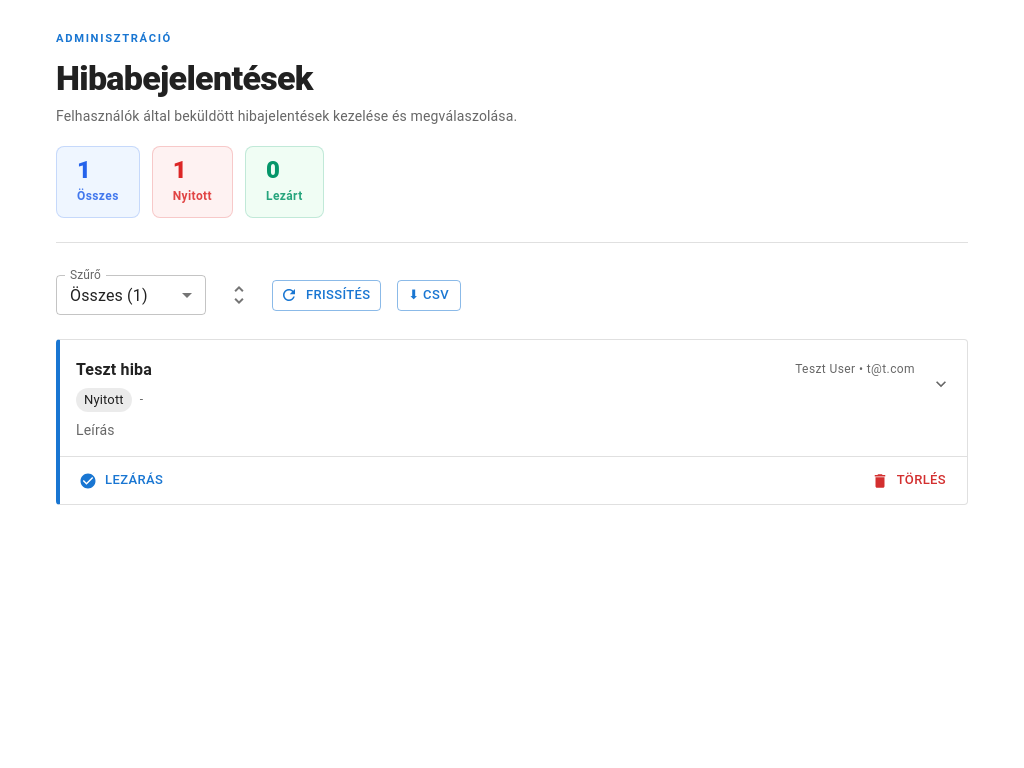
Test: BugReports › save response shows Válasz mentve snackbar
Step 1. Click the heading "Teszt hiba" → x=114, y=370, box [76, 360, 152, 379]
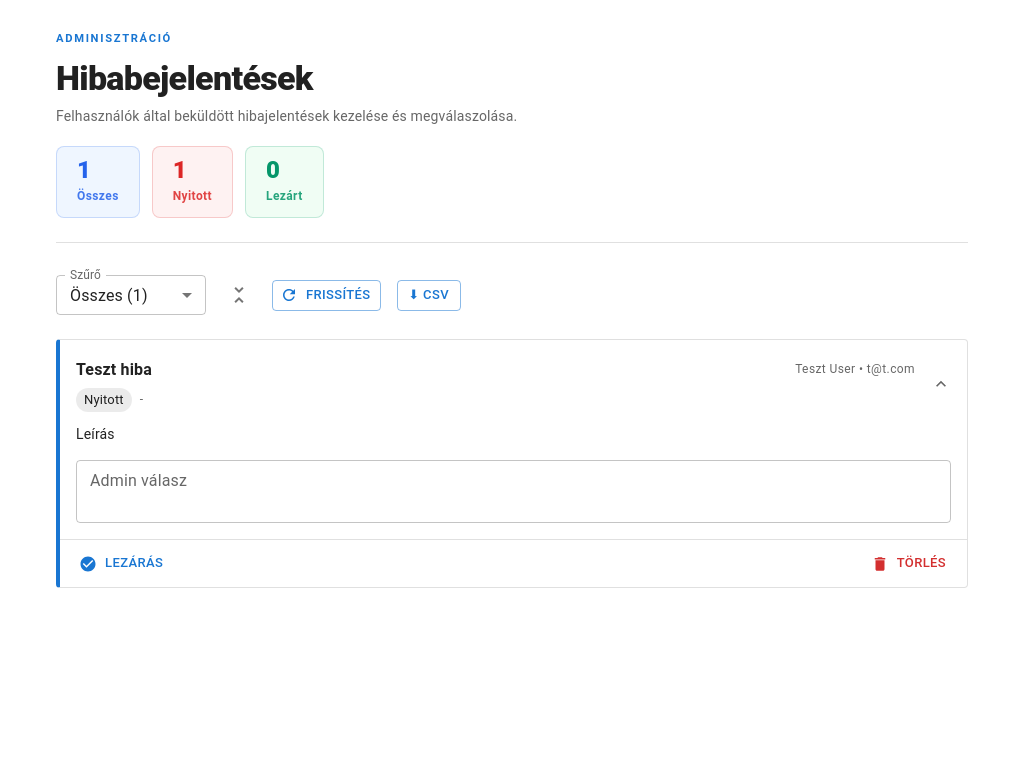
Check: the text box with placeholder "Válasz a felhasználónak..." is shown
Step 2. Type "Köszönjük a jelzést!" into the text box with placeholder "Válasz a felhasználónak..." → x=514, y=492, box [90, 469, 937, 515]
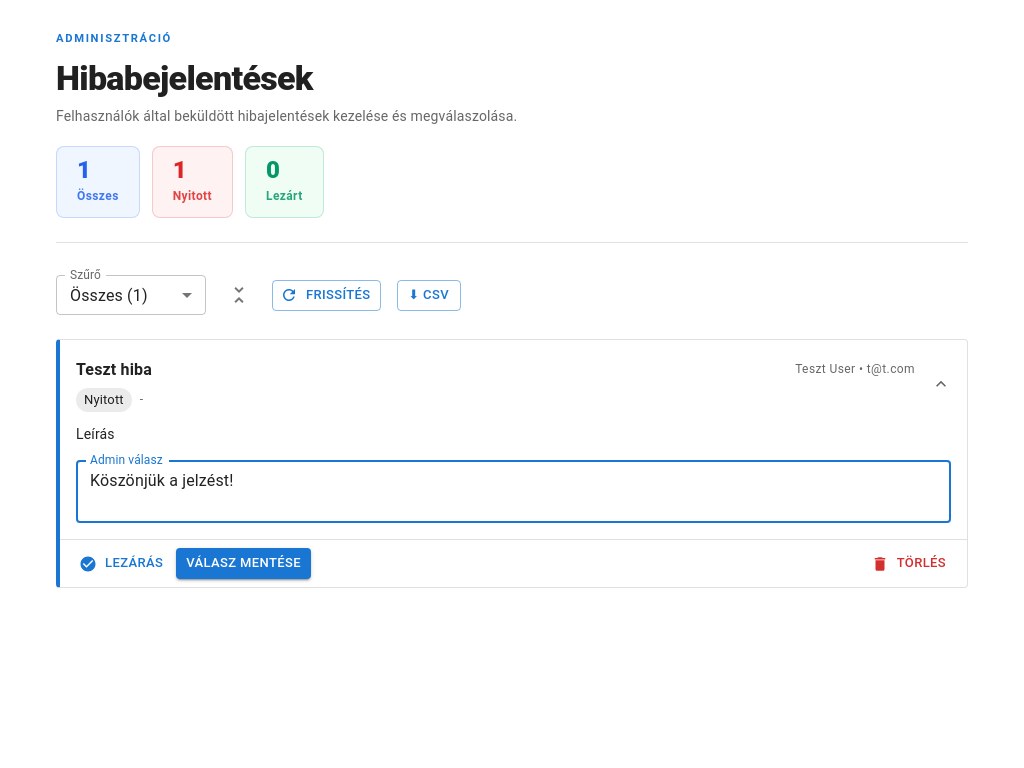
Step 3. Click the button "Válasz mentése" → x=244, y=564, box [176, 548, 311, 579]
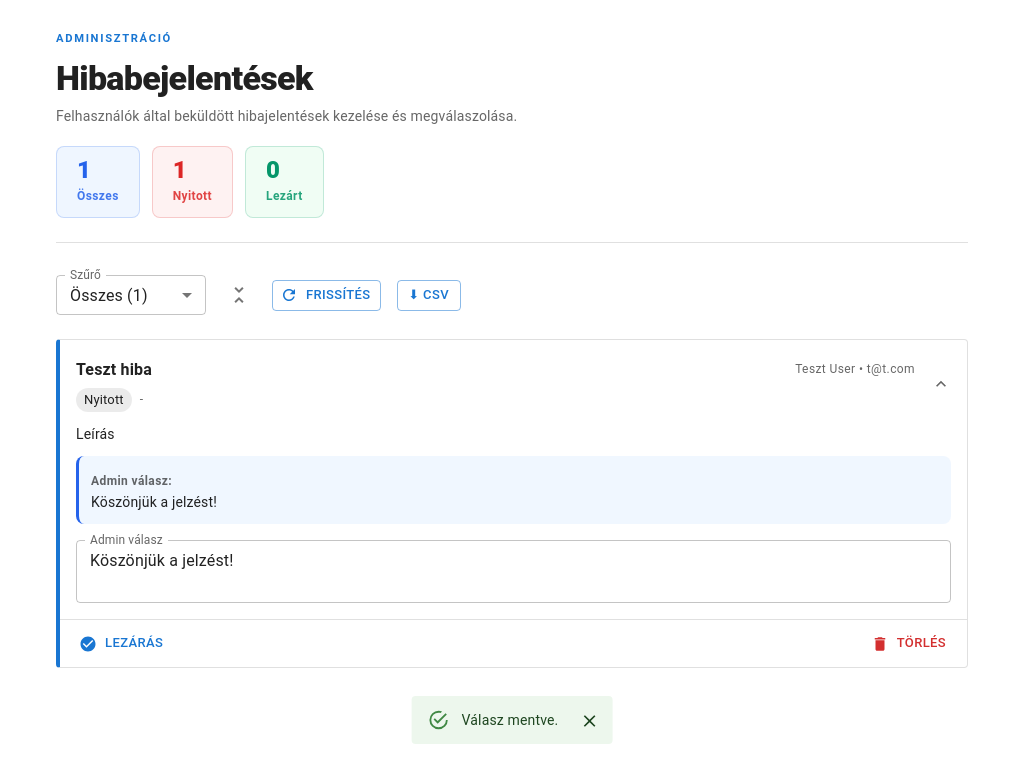
Check: the text "Válasz mentve." is shown, box [462, 712, 558, 728]
